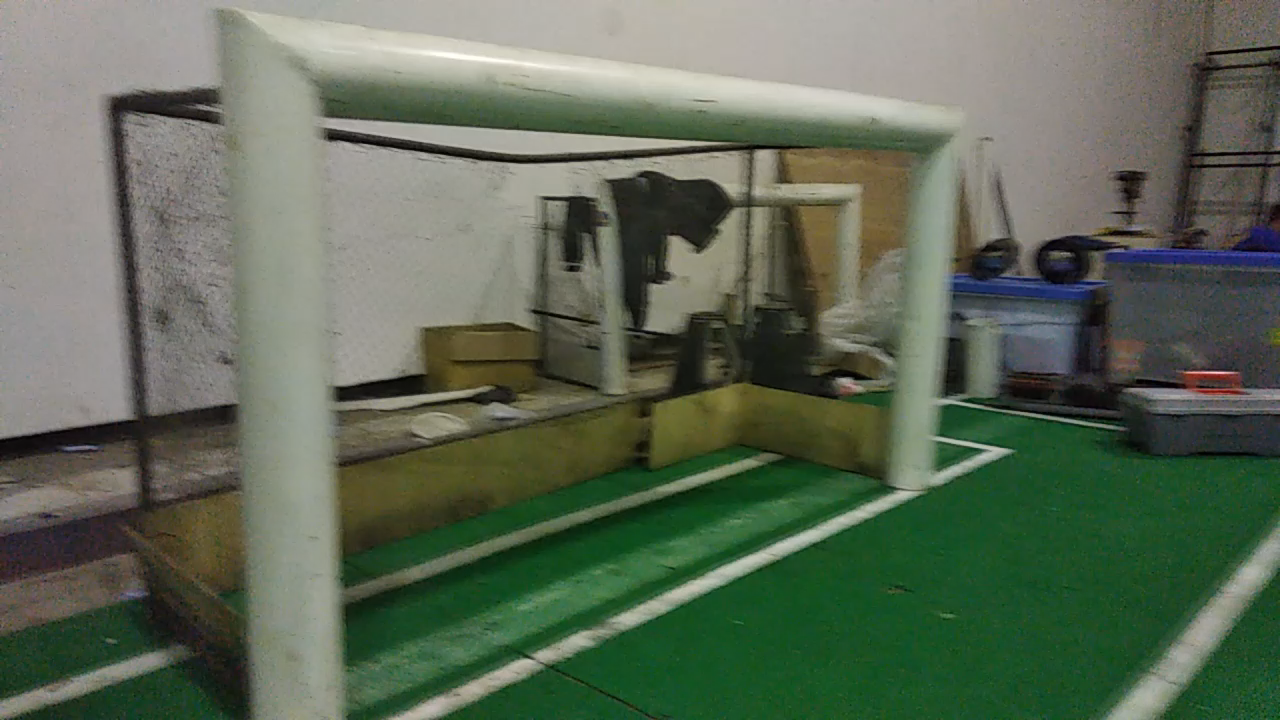gawang: (208, 5, 974, 719)
